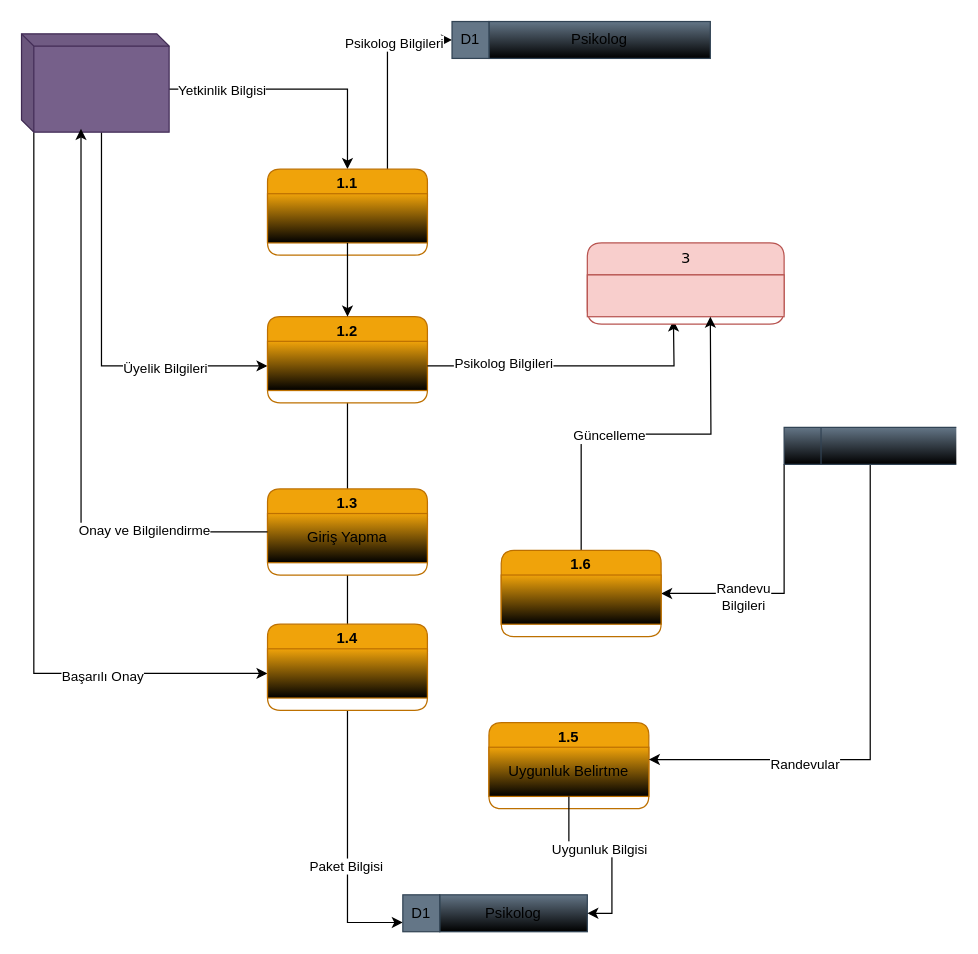
Some shapes in this 978 by 954 pixel diagram are drawn without their labels. The shapes that lost their labels are listed below. From the top down, each one's centre as x and y in pixels, then its label:
the point at 94,82: Gönüllü Psikolog
the point at 346,217: Kullanıcı Türü Belirleme
the point at 685,295: Randevu Sistemi
the point at 346,365: Psikolog Hesap Oluşturma
the point at 869,445: D3 Randevu Kayıtları
the point at 580,599: Randevu Takip ve Kontrol
the point at 346,673: Kimlik Doğrulama
